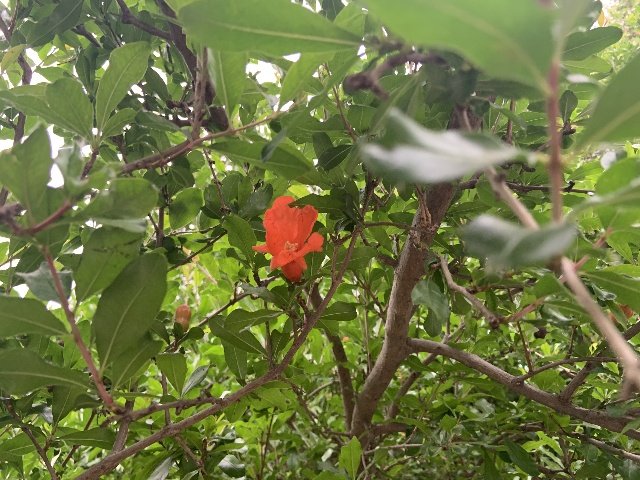bud: (609, 303, 634, 323), (175, 304, 191, 332)
flower: (252, 195, 324, 283)
